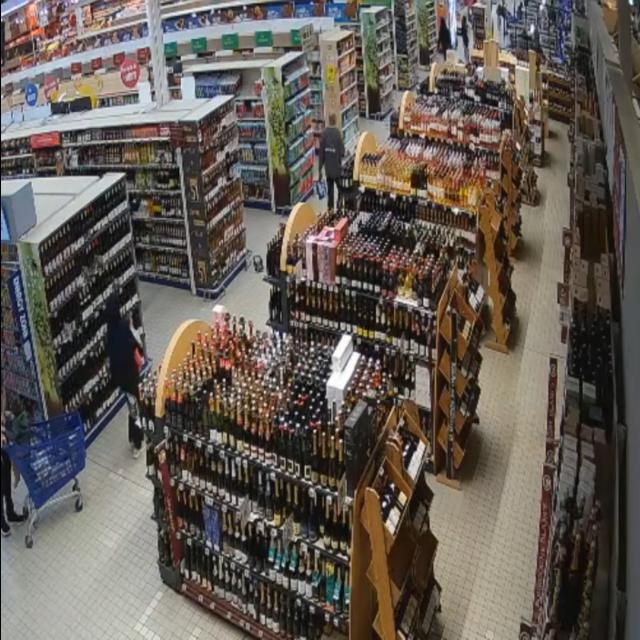article: (314, 181, 326, 199)
bags: (135, 349, 142, 372)
hands: (3, 411, 14, 425), (1, 428, 6, 446), (129, 315, 134, 329), (319, 167, 324, 180)
person: (106, 296, 143, 458), (0, 384, 25, 536), (319, 114, 344, 209)
